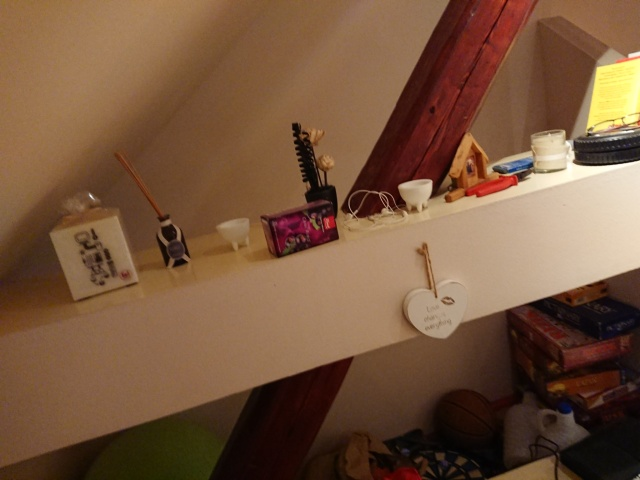Franck Black Currant Tea 60g: (257, 197, 342, 260)
